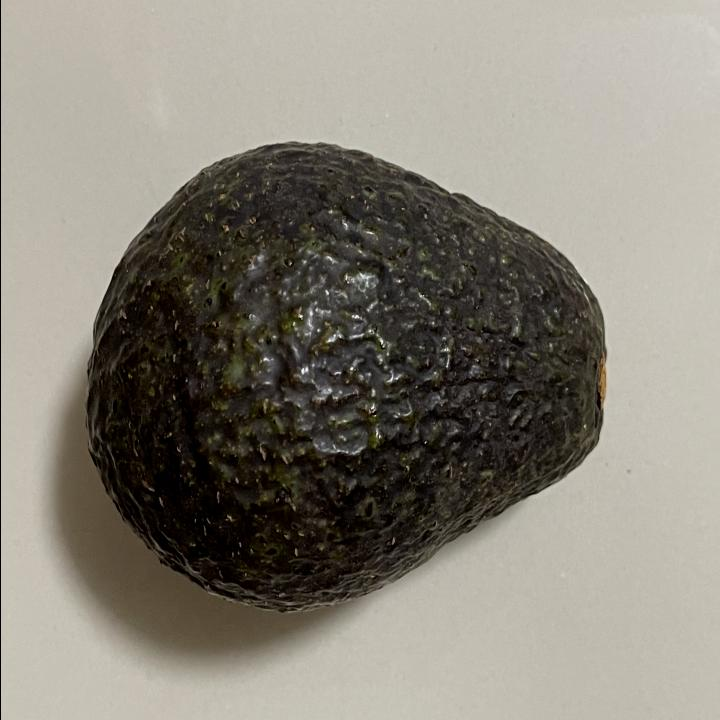Level1: (74, 120, 620, 627)
